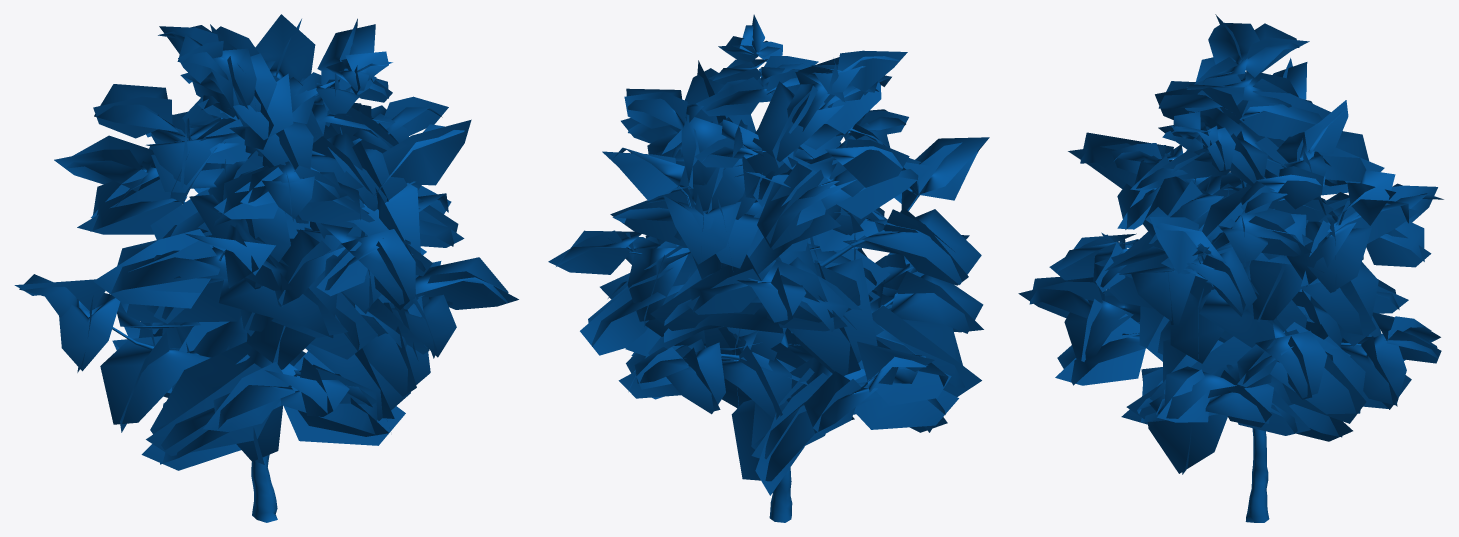
Rendered from oak_medium_2.glb.
3 views of the same model, side by side, from view 1: azimuth 30°, elevation 25°; view 2: azimuth 150°, elevation 25°; view 3: azimuth 270°, elevation 25° (orthographic). The views are drawn at different scales.
Visible parts, largest first — view 1: Medium_oak_tree__002_LOD1; view 2: Medium_oak_tree__002_LOD1; view 3: Medium_oak_tree__002_LOD1.
Boxes of the visible parts, x1=… form: Medium_oak_tree__002_LOD1: x1=14, y1=14, x2=518, y2=522; Medium_oak_tree__002_LOD1: x1=548, y1=14, x2=989, y2=522; Medium_oak_tree__002_LOD1: x1=1018, y1=14, x2=1443, y2=522.
Size of the model in its own units: 9.02 by 10.29 by 8.67.
2 materials, 2 textured.
